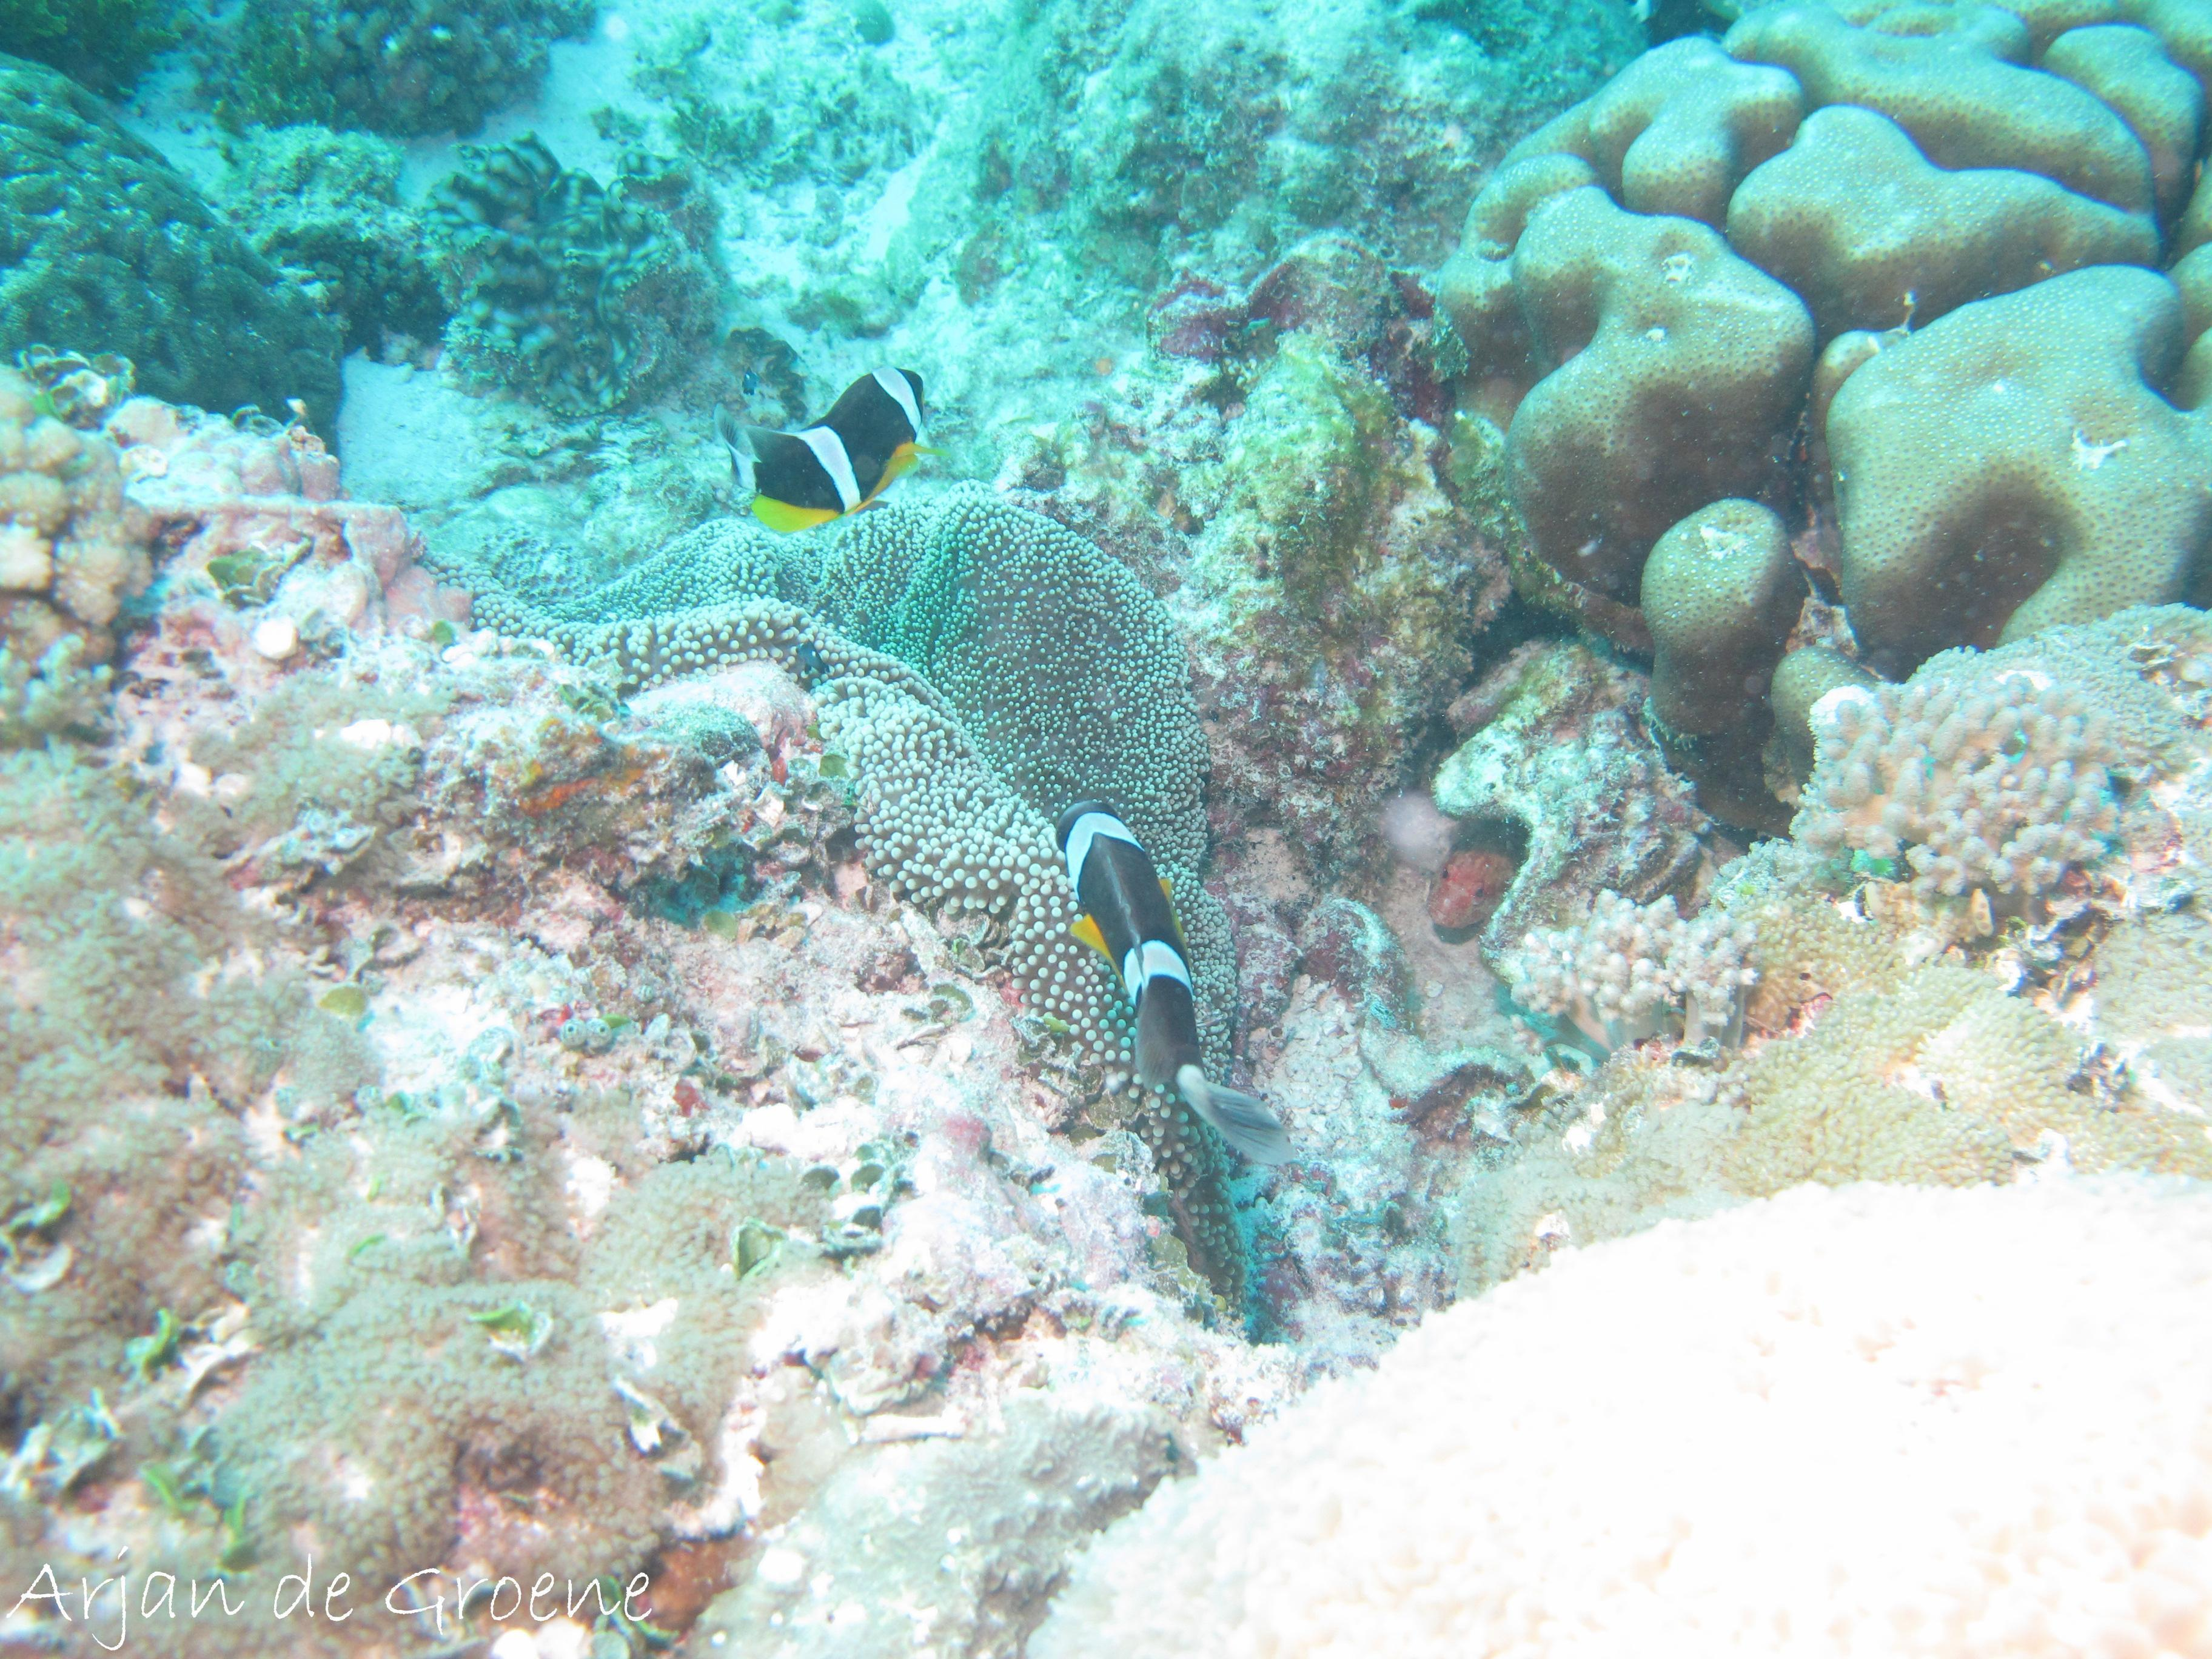Fish: (974, 730, 1343, 1168), (700, 343, 965, 580)
